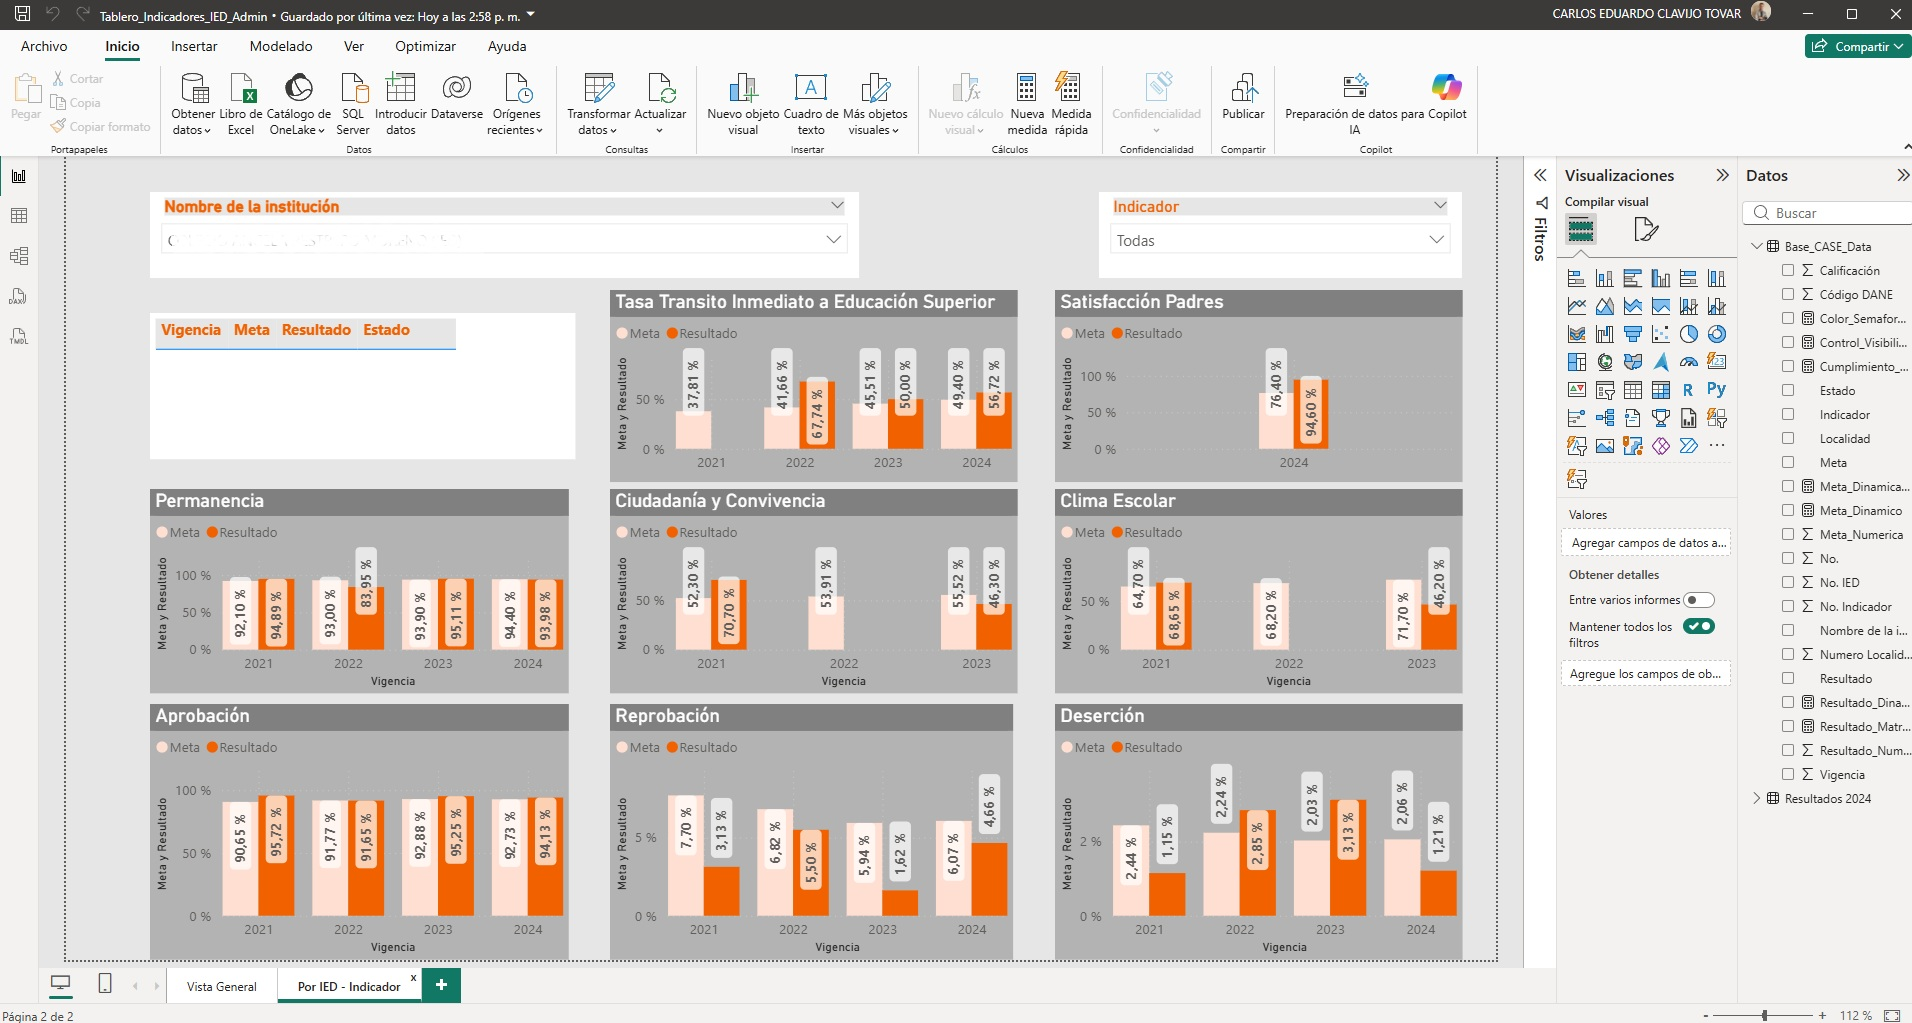

This screenshot's page, from the dashboard's own definition file:
{"tool":"powerbi","page":{"name":"Por IED - Indicador","canvas":[1280,720],"ordinal":1},"visuals":[{"type":"slicer","fields":{"Values":["Base_CASE_Data.Nombre de la institución"]},"box":[75.2,32.2,634.9,77],"z":0},{"type":"pivotTable","fields":{"Rows":["Base_CASE_Data.Vigencia"],"Values":["Base_CASE_Data.Meta_Dinamica_CASE","Base_CASE_Data.Resultado_Matriz_CASE","Min(Base_CASE_Data.Estado)"]},"box":[75.2,140.6,381.5,130.7],"z":1000},{"type":"lineClusteredColumnComboChart","title":"Aprobación","fields":{"Category":["Base_CASE_Data.Vigencia"],"Y":["Avg(Base_CASE_Data.Meta_Numerica)","Avg(Base_CASE_Data.Resultado_Numerico)"]},"box":[74.9,491.2,375.4,228.6],"z":2000},{"type":"lineClusteredColumnComboChart","title":"Reprobación","fields":{"Category":["Base_CASE_Data.Vigencia"],"Y":["Avg(Base_CASE_Data.Meta_Numerica)","Avg(Base_CASE_Data.Resultado_Numerico)"]},"box":[487.3,491.2,360.9,228.6],"z":3000},{"type":"lineClusteredColumnComboChart","title":"Deserción","fields":{"Category":["Base_CASE_Data.Vigencia"],"Y":["Avg(Base_CASE_Data.Meta_Numerica)","Avg(Base_CASE_Data.Resultado_Numerico)"]},"box":[886.1,491.2,364.7,228.6],"z":4000},{"type":"lineClusteredColumnComboChart","title":"Clima Escolar","fields":{"Category":["Base_CASE_Data.Vigencia"],"Y":["Avg(Base_CASE_Data.Meta_Numerica)","Avg(Base_CASE_Data.Resultado_Numerico)"]},"box":[886.1,298.6,364.7,182.9],"z":5000},{"type":"lineClusteredColumnComboChart","title":"Ciudadanía y Convivencia","fields":{"Category":["Base_CASE_Data.Vigencia"],"Y":["Avg(Base_CASE_Data.Meta_Numerica)","Avg(Base_CASE_Data.Resultado_Numerico)"]},"box":[487.3,298.6,364.7,182.9],"z":6000},{"type":"lineClusteredColumnComboChart","title":"Permanencia","fields":{"Category":["Base_CASE_Data.Vigencia"],"Y":["Avg(Base_CASE_Data.Meta_Numerica)","Avg(Base_CASE_Data.Resultado_Numerico)"]},"box":[74.9,298.6,375.4,182.9],"z":7000},{"type":"lineClusteredColumnComboChart","title":"Satisfacción Padres","fields":{"Category":["Base_CASE_Data.Vigencia"],"Y":["Avg(Base_CASE_Data.Meta_Numerica)","Avg(Base_CASE_Data.Resultado_Numerico)"]},"box":[886.1,119.6,364.7,172.2],"z":8000},{"type":"lineClusteredColumnComboChart","title":"Tasa Transito Inmediato a Educación Superior","fields":{"Category":["Base_CASE_Data.Vigencia"],"Y":["Avg(Base_CASE_Data.Meta_Numerica)","Avg(Base_CASE_Data.Resultado_Numerico)"]},"box":[487.3,119.6,364.7,172.2],"z":9000},{"type":"slicer","fields":{"Values":["Base_CASE_Data.Indicador"]},"box":[925.1,32.2,325.1,77],"z":10000}]}

Visuals, with their boxes on the page's 1280x720 design canvas (x1, y1, x2, y2). These are canvas units, not pixel positions in the 1912x1023 screenshot, which may show the page scaled, cropped or inside an application window:
slicer - Base_CASE_Data.Nombre de la institución: bbox=(75, 32, 710, 109)
pivotTable - Base_CASE_Data.Vigencia x Base_CASE_Data.Meta_Dinamica_CASE: bbox=(75, 141, 457, 271)
"Aprobación" lineClusteredColumnComboChart: bbox=(75, 491, 450, 720)
"Reprobación" lineClusteredColumnComboChart: bbox=(487, 491, 848, 720)
"Deserción" lineClusteredColumnComboChart: bbox=(886, 491, 1251, 720)
"Clima Escolar" lineClusteredColumnComboChart: bbox=(886, 299, 1251, 482)
"Ciudadanía y Convivencia" lineClusteredColumnComboChart: bbox=(487, 299, 852, 482)
"Permanencia" lineClusteredColumnComboChart: bbox=(75, 299, 450, 482)
"Satisfacción Padres" lineClusteredColumnComboChart: bbox=(886, 120, 1251, 292)
"Tasa Transito Inmediato a Educación Superior" lineClusteredColumnComboChart: bbox=(487, 120, 852, 292)
slicer - Base_CASE_Data.Indicador: bbox=(925, 32, 1250, 109)
